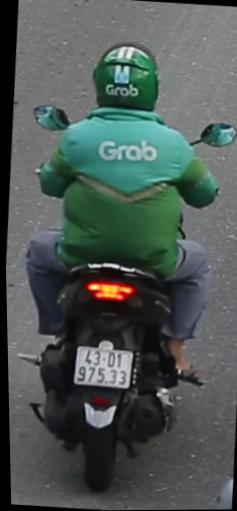LP: (68, 342, 134, 394)
helmet: (85, 35, 166, 126)
